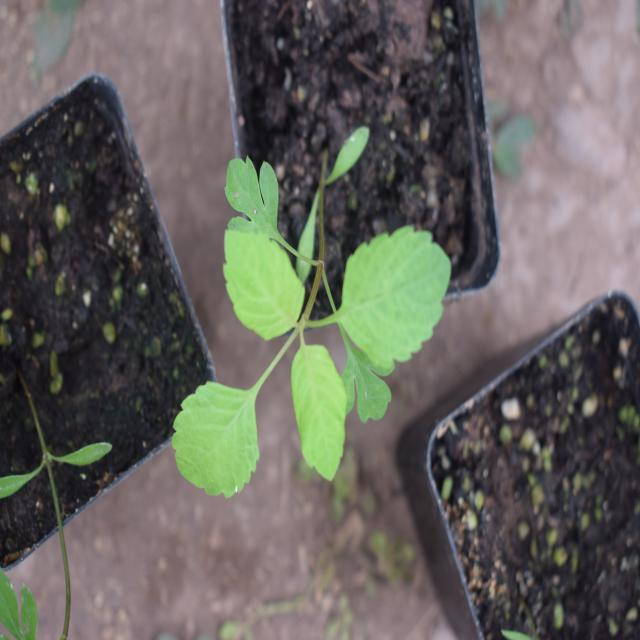Bidens pilosa: (174, 162, 460, 508)
